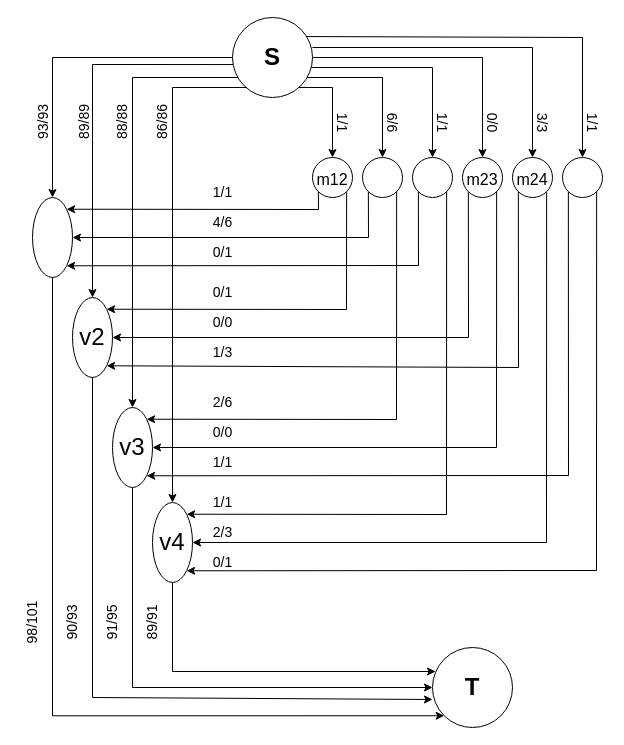
Some shapes in this 624 by 745 pixel diagram are drawn without their labels. The shapes that lost their labels are listed below. From the top down, each one's centre as x and y in pixels, then its label:
(382,177): m13
(432,177): m14
(582,177): m34
(52,237): v1
